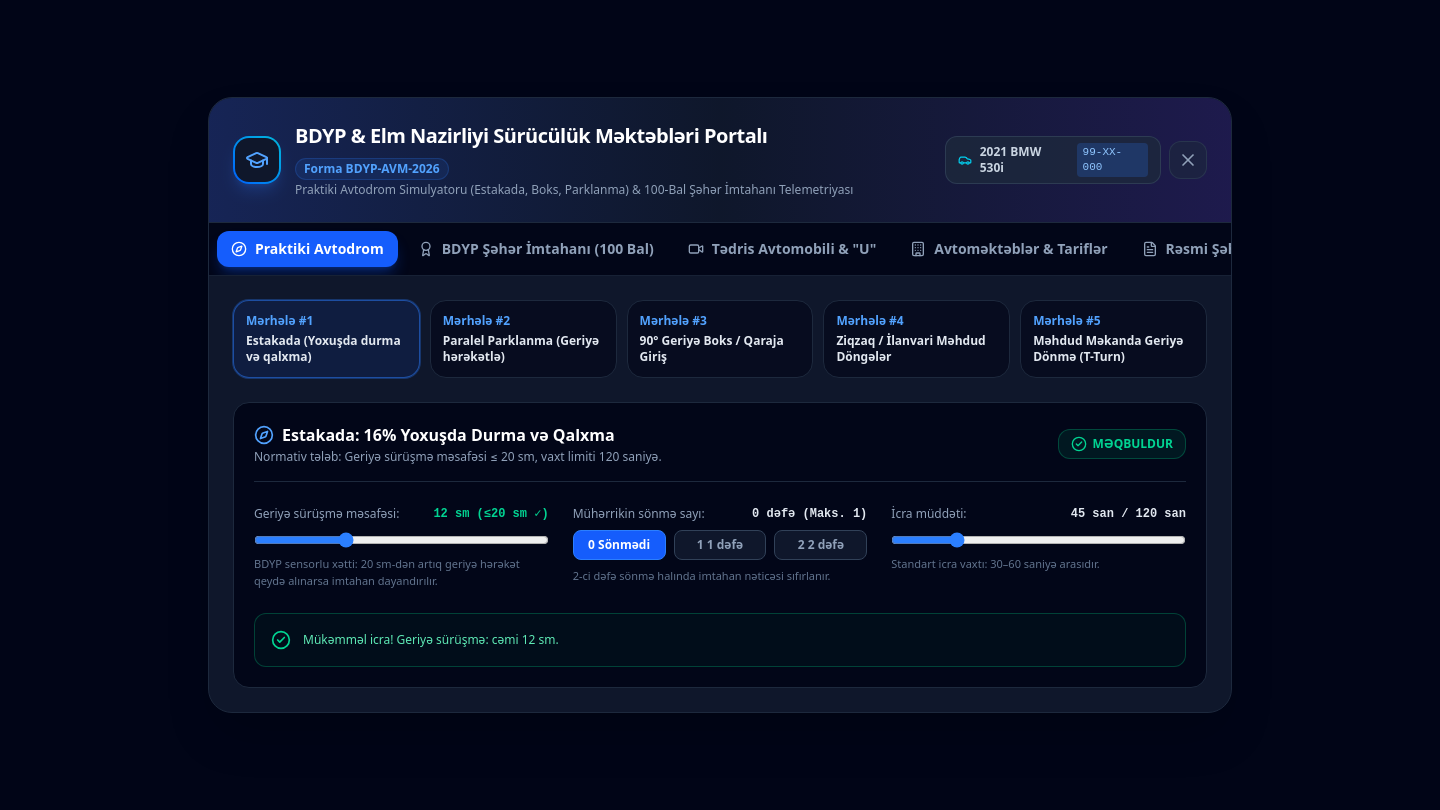
Test case: DrivingSchoolModal Component › interacts with Estakada sliders and updates pass/fail telemetry
Expected: the text "MƏQBULDUR" is shown, 1058,429 -> 1186,459
Note: Change stalls to 2 (fails)
Click the button "2 2 dəfə" at point(821, 545), box 774,530 -> 867,560
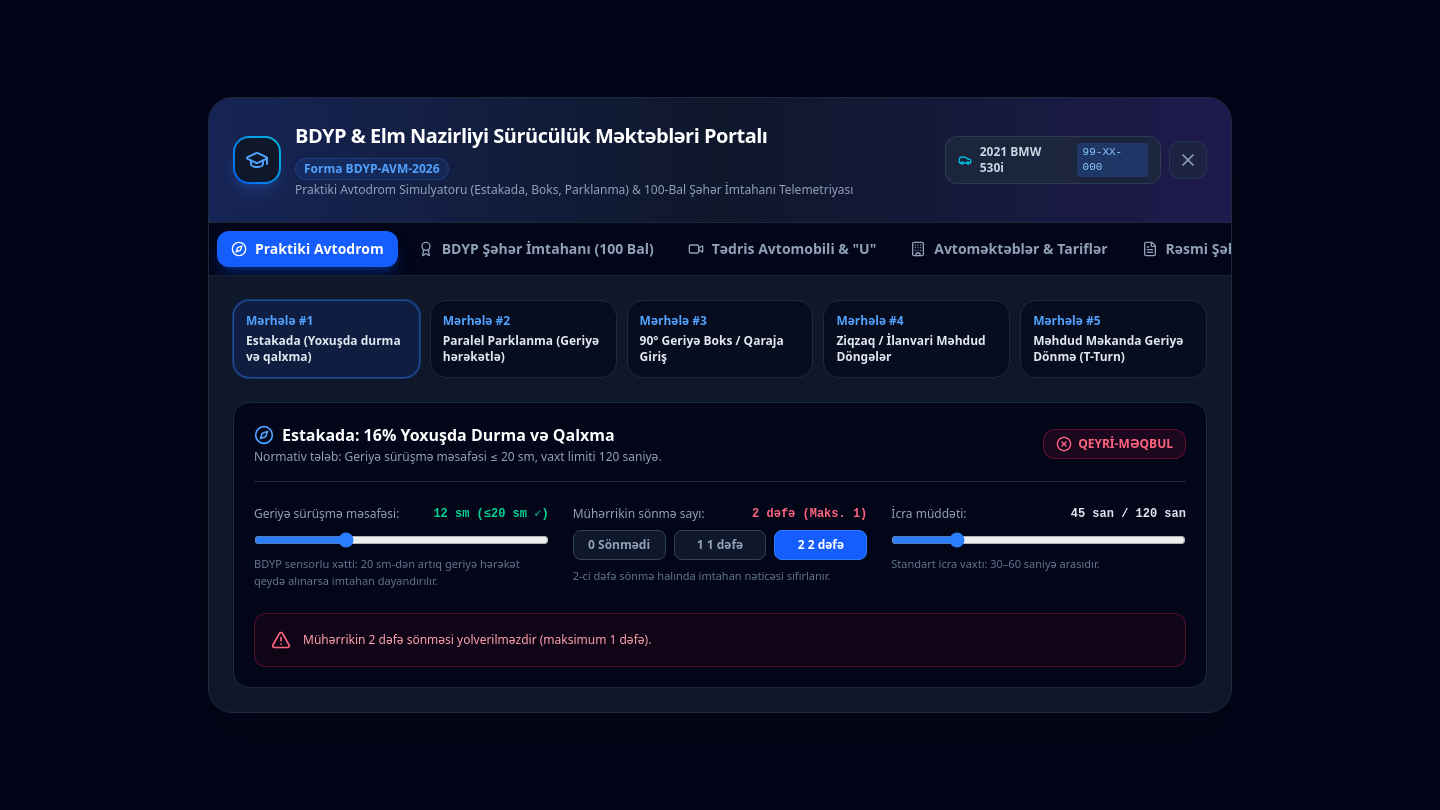
Now the text "QEYRİ-MƏQBUL" is shown, box 1043,429 -> 1186,459
